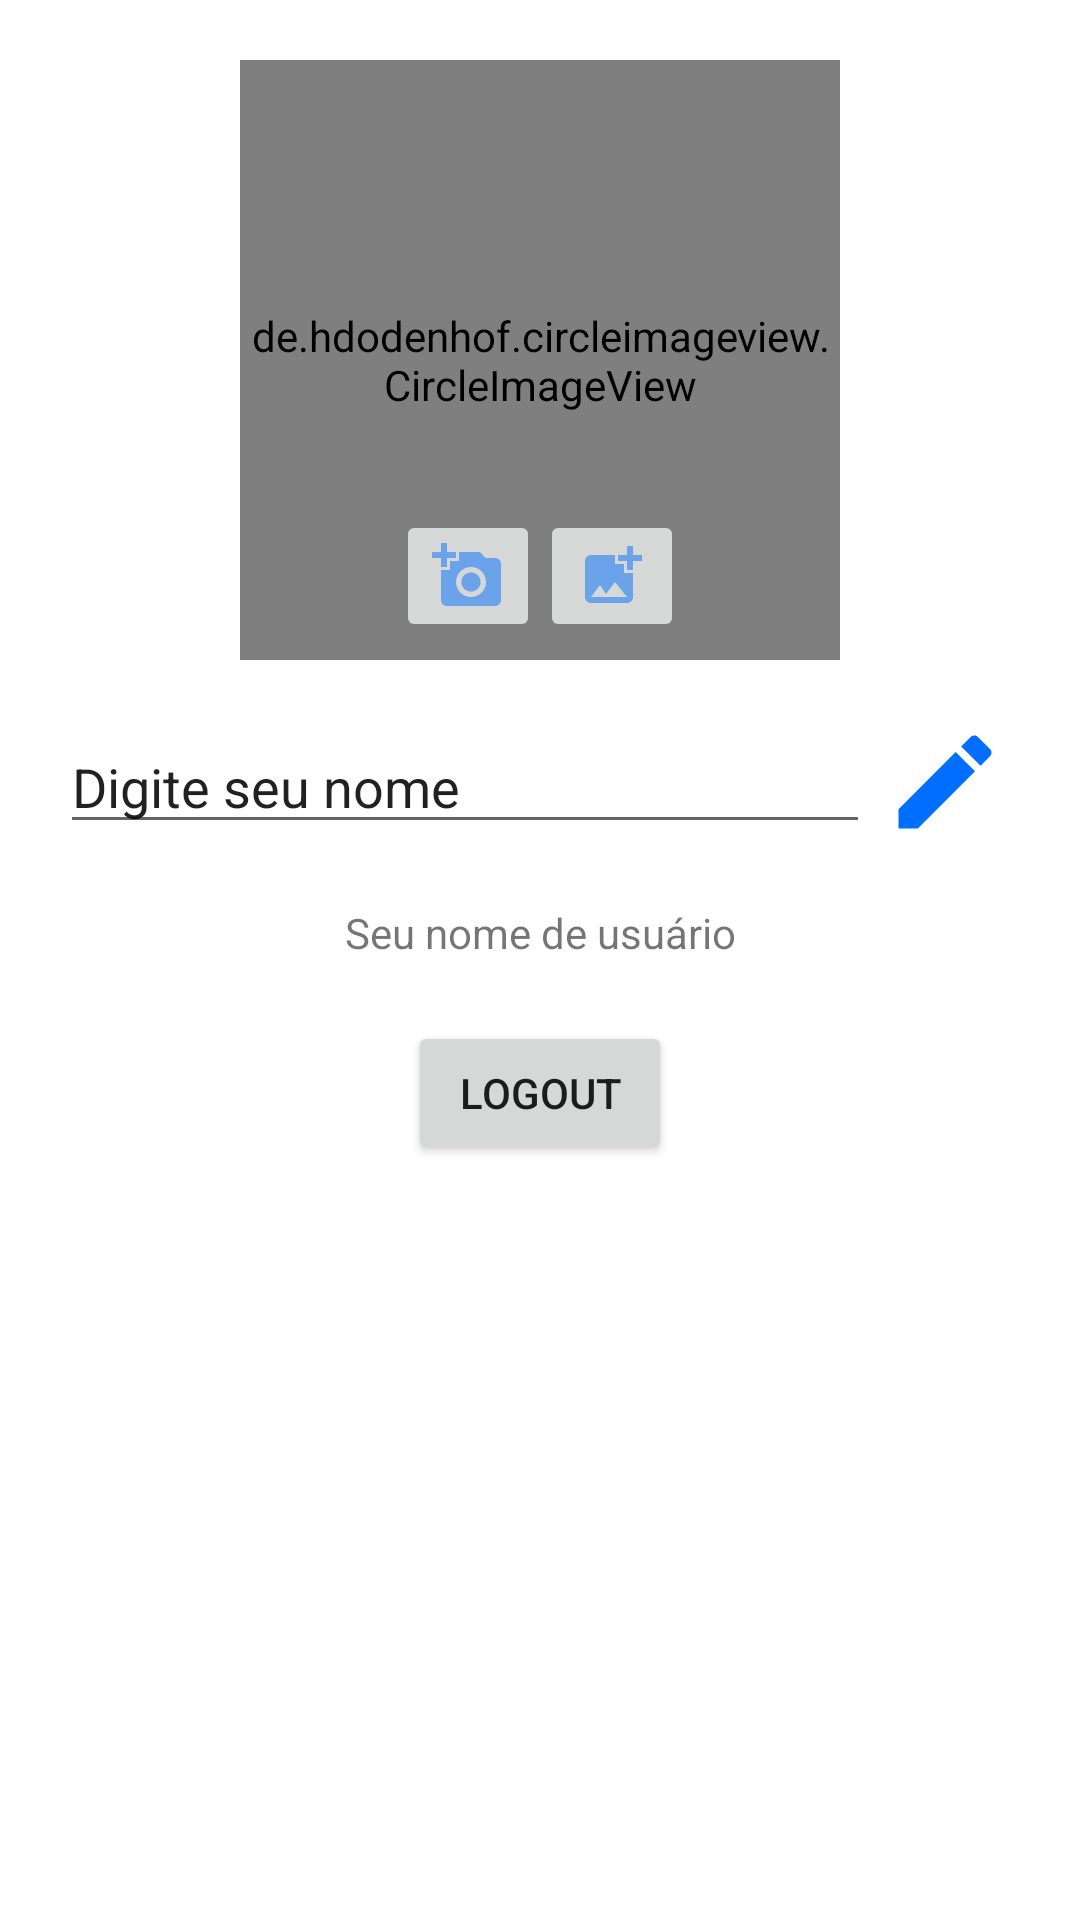

Icon bounding boxes for this 1080px×1920px phone screenshot, format (x1=x1, y1=y1, x2=x2, y2=y2):
add photo: (x1=408, y1=528, x2=528, y2=624)
add photo alternate: (x1=552, y1=528, x2=672, y2=624)
edit: (x1=898, y1=735, x2=992, y2=829)
